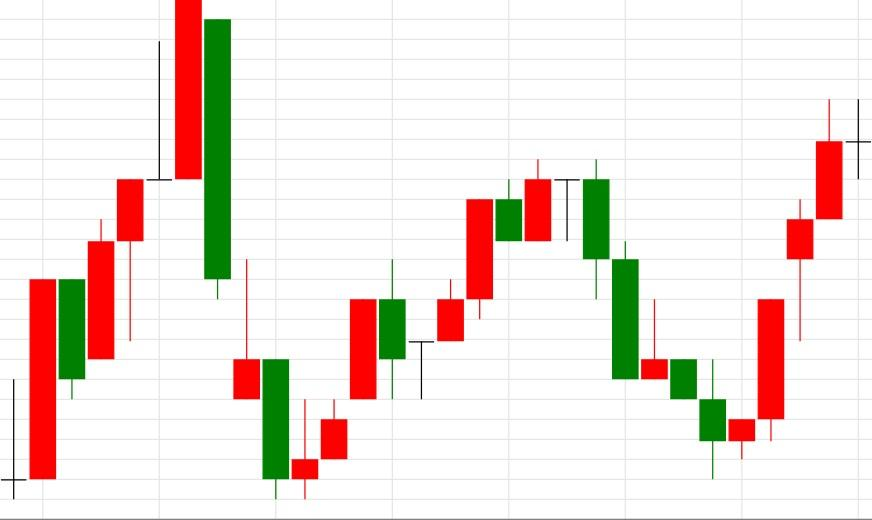evening_star_fall: (291, 159, 610, 501)
three_white_soldiers_rise: (174, 0, 378, 500), (582, 159, 815, 480)
